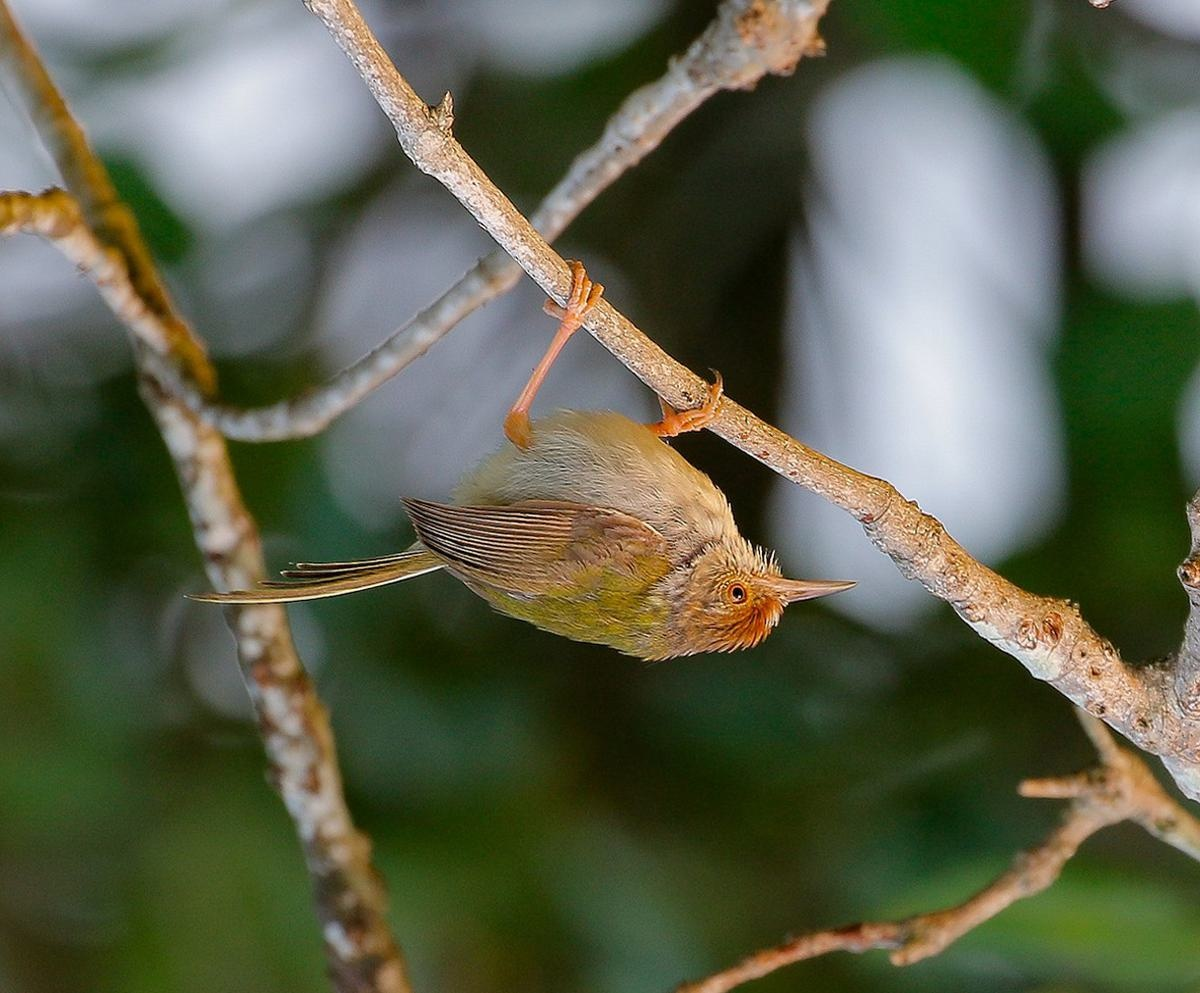tailorbird: (184, 320, 871, 674)
